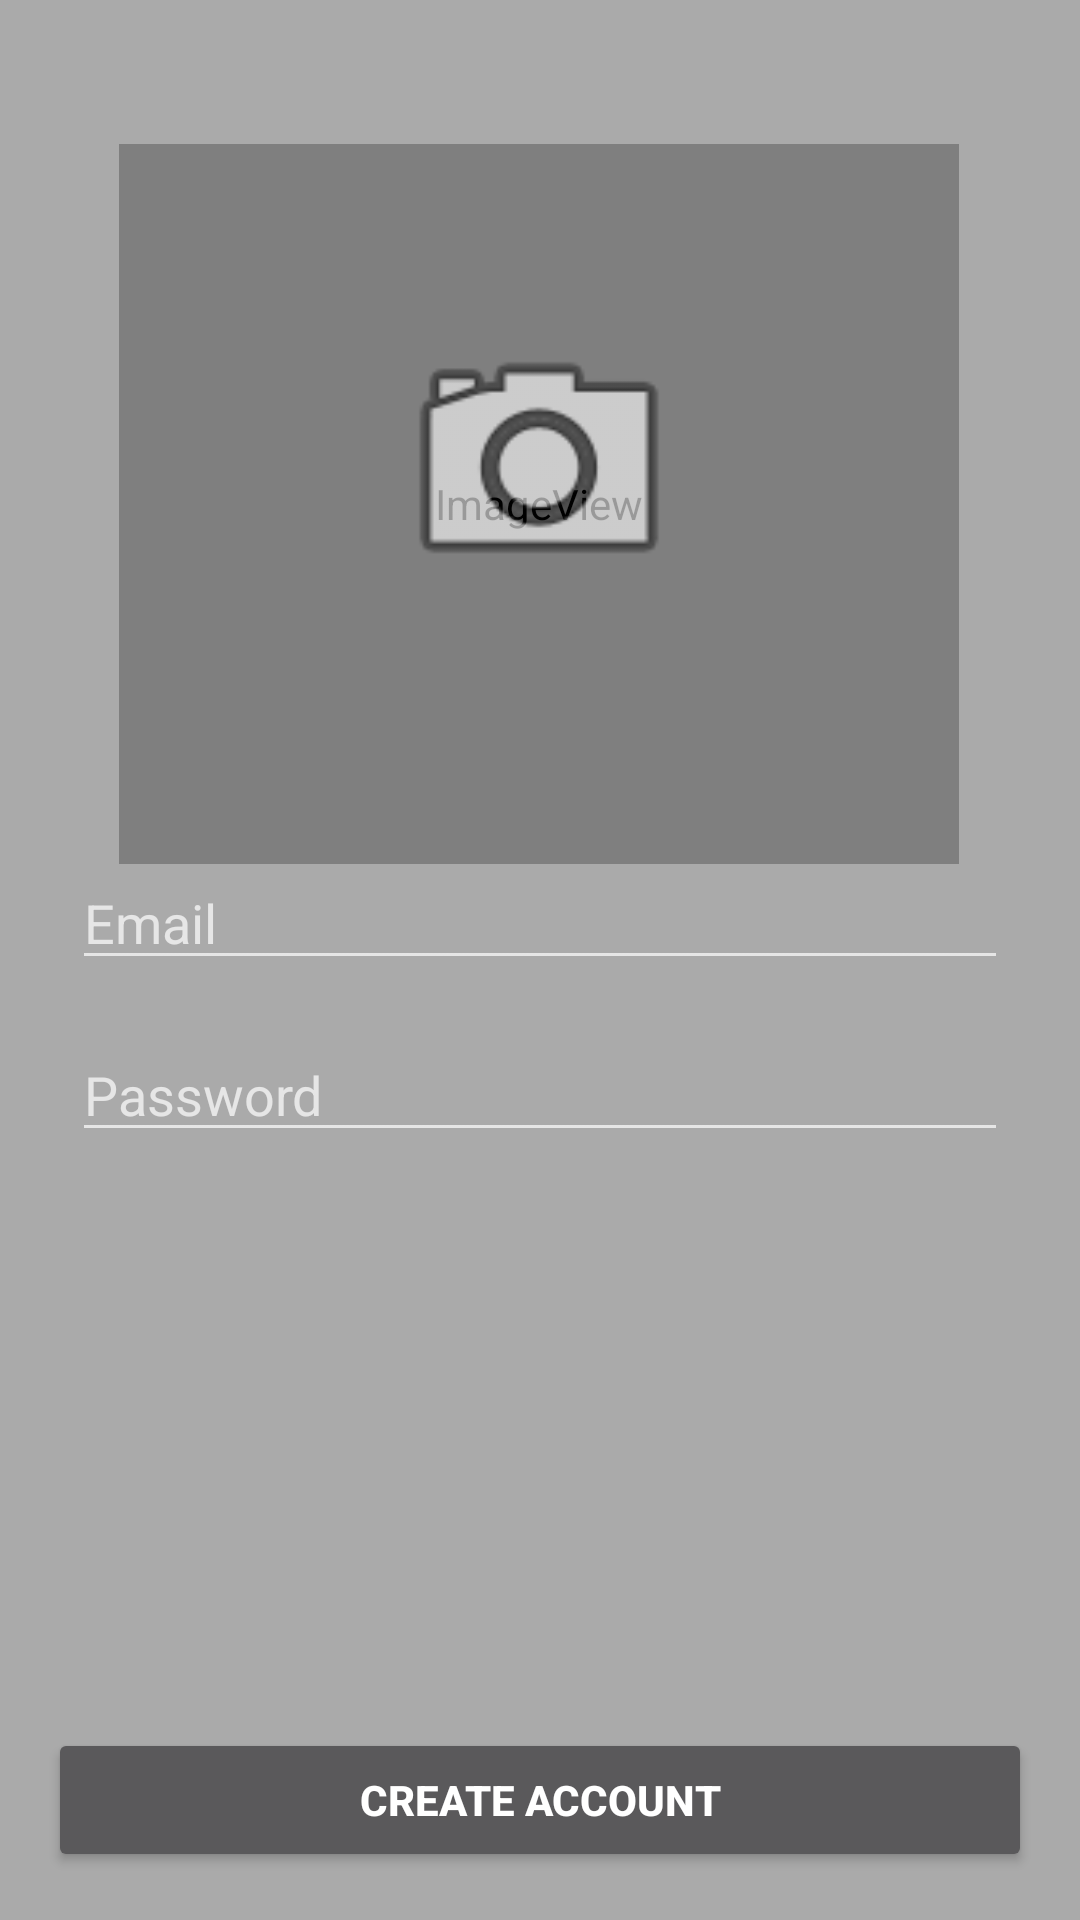

Locate icon controls on the screen. Image size 1080x1920, boxes as [x1=x1, y1=y1, x2=x2, y2=y2].
Create Account's post image button: [x1=420, y1=364, x2=657, y2=552]
